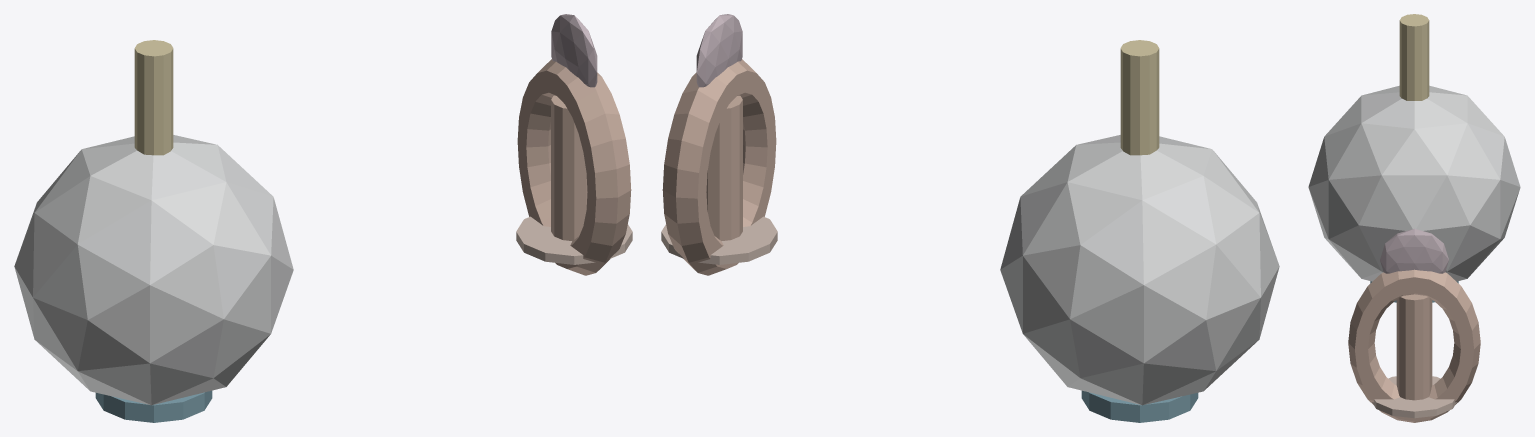
The model's file is eye-ear-g3-low.glb.
3 views of the same model, side by side, from view 1: azimuth 30°, elevation 25°; view 2: azimuth 150°, elevation 25°; view 3: azimuth 270°, elevation 25° (orthographic). The views are drawn at different scales.
Parts seen in each view (by area): view 1: eyeball, outer_ear, optic_nerve_proxy, ear_canal, cochlea_proxy, iris, tympanic_membrane_proxy; view 2: eyeball, outer_ear, optic_nerve_proxy, ear_canal, cochlea_proxy, iris, tympanic_membrane_proxy; view 3: eyeball, outer_ear, ear_canal, optic_nerve_proxy, cochlea_proxy, tympanic_membrane_proxy.
Boxes of the visible parts, bbox=[...] form: eyeball: bbox=[14, 135, 293, 405]; outer_ear: bbox=[517, 59, 631, 275]; optic_nerve_proxy: bbox=[134, 40, 173, 155]; ear_canal: bbox=[551, 95, 587, 240]; cochlea_proxy: bbox=[551, 14, 597, 87]; iris: bbox=[95, 390, 212, 422]; tympanic_membrane_proxy: bbox=[516, 216, 632, 264]; eyeball: bbox=[1000, 135, 1279, 405]; outer_ear: bbox=[662, 59, 776, 275]; optic_nerve_proxy: bbox=[1120, 40, 1159, 155]; ear_canal: bbox=[706, 95, 742, 240]; cochlea_proxy: bbox=[696, 14, 742, 87]; iris: bbox=[1081, 390, 1198, 422]; tympanic_membrane_proxy: bbox=[661, 216, 777, 264]; eyeball: bbox=[1308, 85, 1520, 281]; outer_ear: bbox=[1348, 269, 1480, 422]; ear_canal: bbox=[1396, 294, 1432, 400]; optic_nerve_proxy: bbox=[1399, 14, 1429, 100]; cochlea_proxy: bbox=[1380, 228, 1448, 273]; tympanic_membrane_proxy: bbox=[1372, 376, 1456, 418].
Size of the model in its own units: 3.52 by 1.99 by 1.44.
